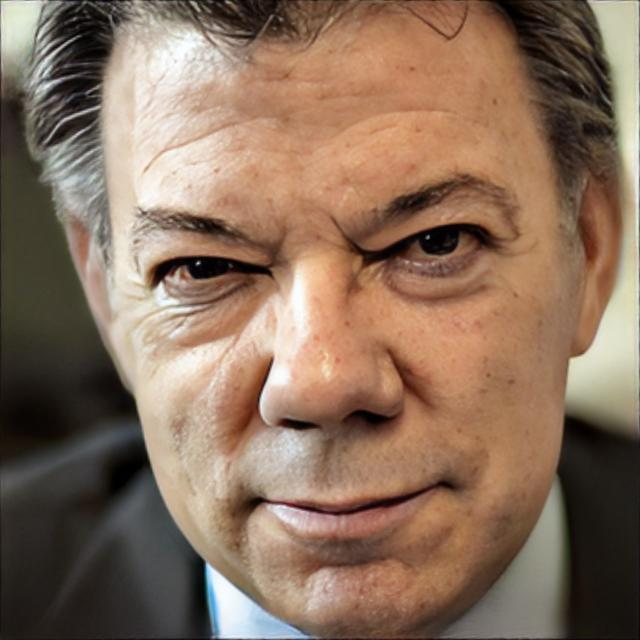content: (102, 0, 566, 640)
